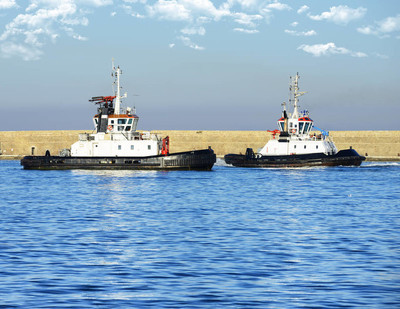otherboat: (15, 76, 220, 174), (223, 70, 367, 169)
